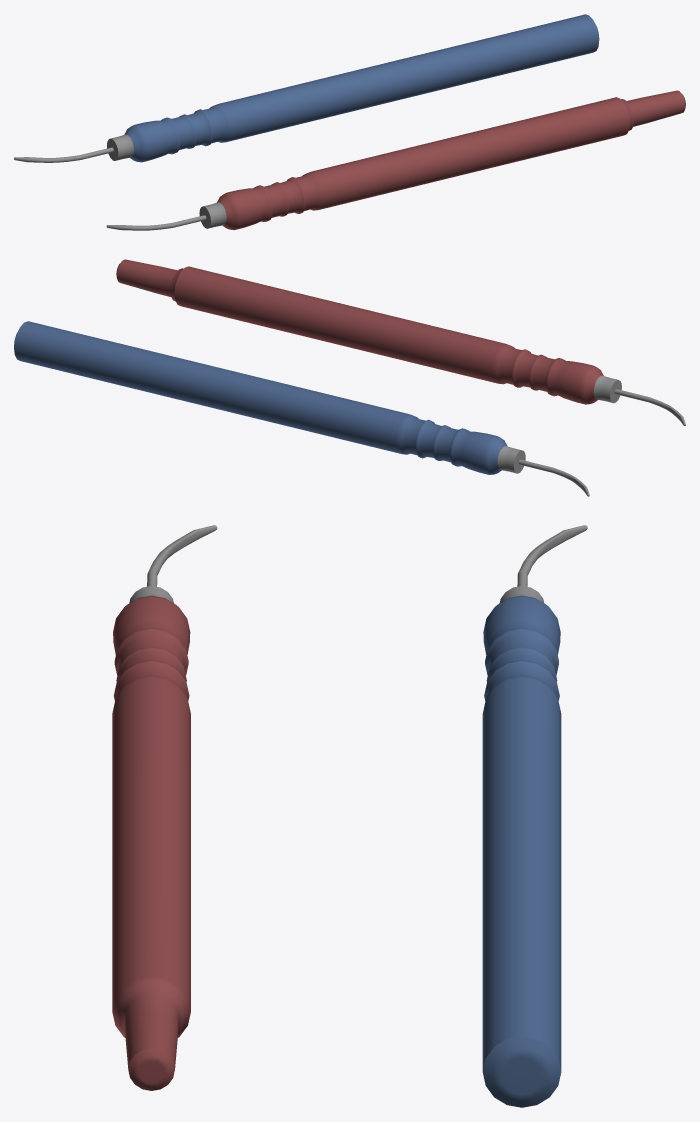
Rendered from Bimanual_I_A.fbx.
The picture shows the model from 3 angles, top to bottom: view 1: azimuth 30°, elevation 25°; view 2: azimuth 150°, elevation 25°; view 3: azimuth 270°, elevation 25°; orthographic projection. The views are drawn at different scales.
Visible parts, largest first — view 1: pCylinder6, pCylinder7; view 2: pCylinder6, pCylinder7; view 3: pCylinder6, pCylinder7.
Part boxes in pixels (x1,y1,x2,y2): pCylinder6: [14, 14, 599, 162]; pCylinder7: [106, 90, 685, 230]; pCylinder6: [14, 321, 589, 496]; pCylinder7: [116, 259, 685, 425]; pCylinder6: [482, 525, 587, 1107]; pCylinder7: [112, 525, 217, 1090].
Bounding box in the file's own units: 1.71 × 0.1033 × 0.6245.
